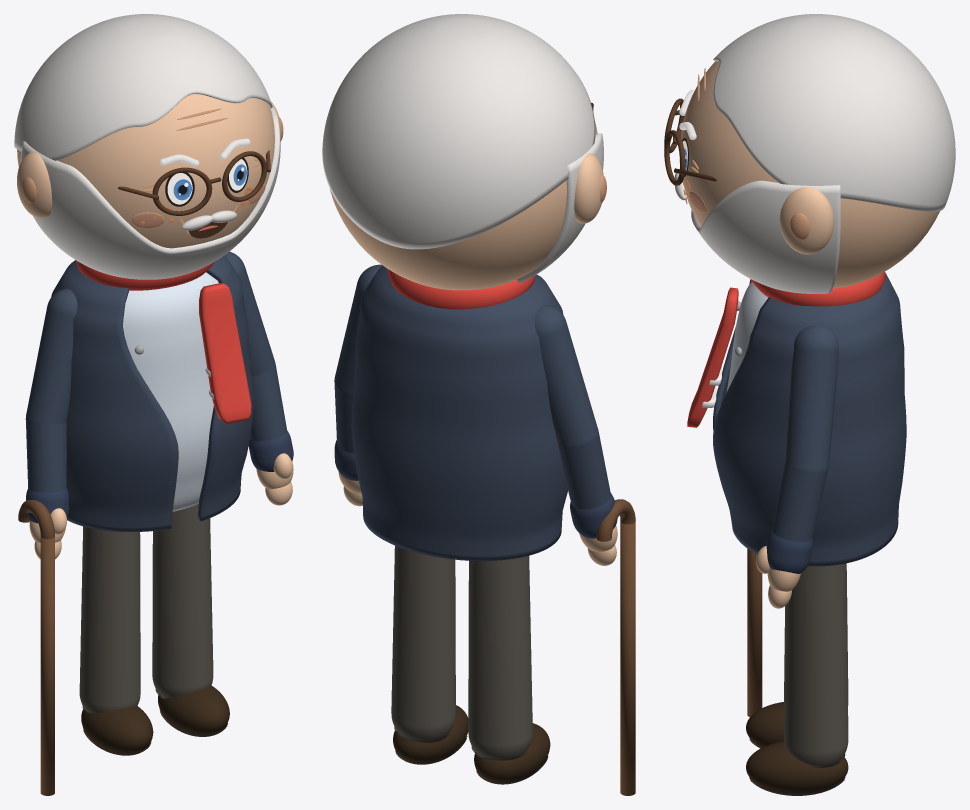
The model's file is broertje_oud.glb.
The picture shows the model from 3 angles, left to right: view 1: azimuth 30°, elevation 25°; view 2: azimuth 150°, elevation 25°; view 3: azimuth 270°, elevation 25°; orthographic projection. The views are drawn at different scales.
Visible parts, largest first — view 1: broertje_oud_jas, broertje_oud_haar, broertje_oud_hoofd, broertje_oud_romp, broertje_oud_baard, broertje_oud_been_R, broertje_oud_been_L, broertje_oud_sjaal_eind, broertje_oud_bovenarm_R, broertje_oud_wandelstok, broertje_oud_onderarm_R, broertje_oud_schoen_R (+10 smaller); view 2: broertje_oud_jas, broertje_oud_haar, broertje_oud_been_R, broertje_oud_been_L, broertje_oud_hoofd, broertje_oud_bovenarm_R, broertje_oud_wandelstok, broertje_oud_onderarm_R, broertje_oud_sjaal, broertje_oud_schoen_R, broertje_oud_baard, broertje_oud_bovenarm_L (+6 smaller); view 3: broertje_oud_haar, broertje_oud_jas, broertje_oud_hoofd, broertje_oud_been_L, broertje_oud_baard, broertje_oud_bovenarm_L, broertje_oud_schoen_L, broertje_oud_onderarm_L, broertje_oud_oor_L, broertje_oud_wandelstok, broertje_oud_sjaal_eind, broertje_oud_sjaal (+5 smaller).
Part boxes in pixels (<box>): broertje_oud_jas: <box>51,255,253,531</box>; broertje_oud_haar: <box>14,14,272,160</box>; broertje_oud_hoofd: <box>17,94,274,248</box>; broertje_oud_romp: <box>123,272,218,511</box>; broertje_oud_baard: <box>20,106,280,279</box>; broertje_oud_been_R: <box>79,526,140,713</box>; broertje_oud_been_L: <box>152,504,213,697</box>; broertje_oud_sjaal_eind: <box>199,282,251,423</box>; broertje_oud_bovenarm_R: <box>26,288,77,424</box>; broertje_oud_wandelstok: <box>40,536,54,795</box>; broertje_oud_onderarm_R: <box>26,418,66,492</box>; broertje_oud_schoen_R: <box>81,706,153,753</box>; broertje_oud_jas: <box>351,266,567,560</box>; broertje_oud_haar: <box>322,14,595,249</box>; broertje_oud_been_R: <box>468,556,532,758</box>; broertje_oud_been_L: <box>391,545,455,740</box>; broertje_oud_hoofd: <box>329,120,597,290</box>; broertje_oud_bovenarm_R: <box>534,304,597,448</box>; broertje_oud_wandelstok: <box>620,521,635,795</box>; broertje_oud_onderarm_R: <box>557,433,610,509</box>; broertje_oud_sjaal: <box>387,269,535,309</box>; broertje_oud_schoen_R: <box>474,723,550,781</box>; broertje_oud_baard: <box>517,133,603,283</box>; broertje_oud_bovenarm_L: <box>334,264,382,393</box>; broertje_oud_haar: <box>713,14,955,211</box>; broertje_oud_jas: <box>713,272,906,566</box>; broertje_oud_hoofd: <box>679,61,939,288</box>; broertje_oud_been_L: <box>784,563,848,766</box>; broertje_oud_baard: <box>691,180,840,293</box>; broertje_oud_bovenarm_L: <box>785,325,838,473</box>; broertje_oud_schoen_L: <box>746,741,848,791</box>; broertje_oud_onderarm_L: <box>772,462,827,541</box>; broertje_oud_oor_L: <box>779,187,834,254</box>; broertje_oud_wandelstok: <box>747,548,762,716</box>; broertje_oud_sjaal_eind: <box>687,287,738,427</box>; broertje_oud_sjaal: <box>750,271,885,306</box>.
Bounding box in the file's own units: 0.6938 × 1.79 × 0.6263.
